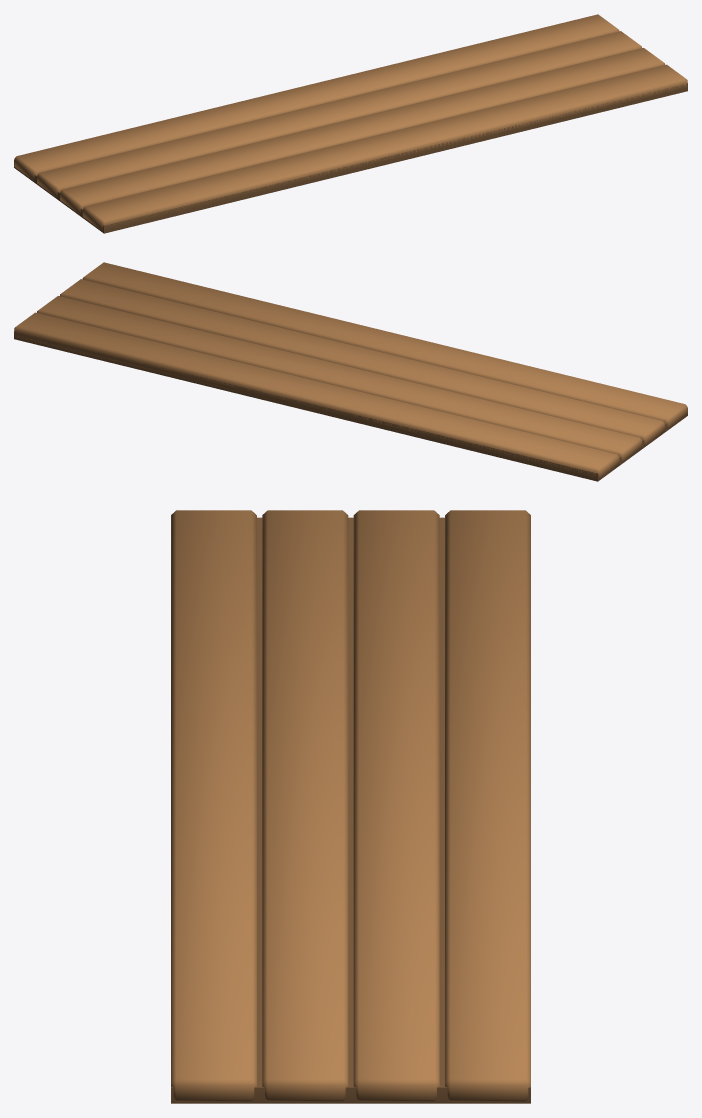
File: SM_GarageCab_Top_20.glb
3 views of the same model, one above another, from view 1: azimuth 30°, elevation 25°; view 2: azimuth 150°, elevation 25°; view 3: azimuth 270°, elevation 25° (orthographic). The views are drawn at different scales.
Parts seen in each view (by area): view 1: SM_GarageCab_Top_20; view 2: SM_GarageCab_Top_20; view 3: SM_GarageCab_Top_20.
Boxes of the visible parts, x1,y1,x2,y2 form: SM_GarageCab_Top_20: [14, 14, 687, 233]; SM_GarageCab_Top_20: [14, 262, 687, 481]; SM_GarageCab_Top_20: [171, 510, 530, 1103].
Bounding box in the file's own units: 2 × 0.04 × 0.532.
Materials: 1 (1 with a texture image).
